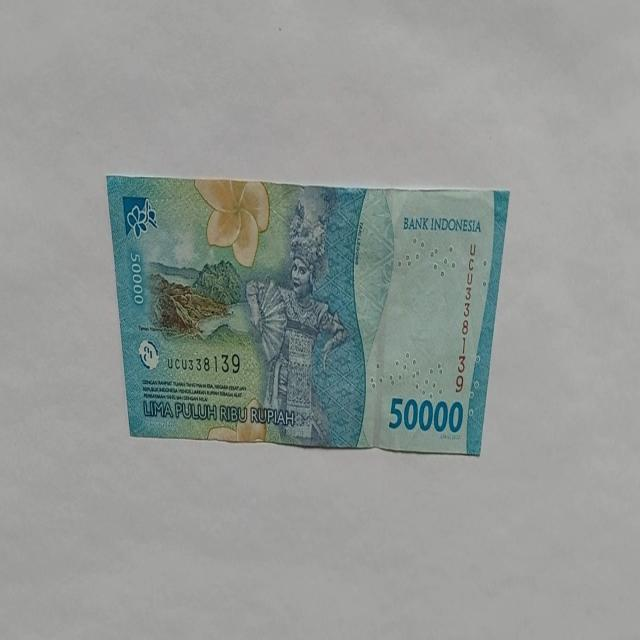lima puluh ribu rupiah: (106, 174, 510, 455)
